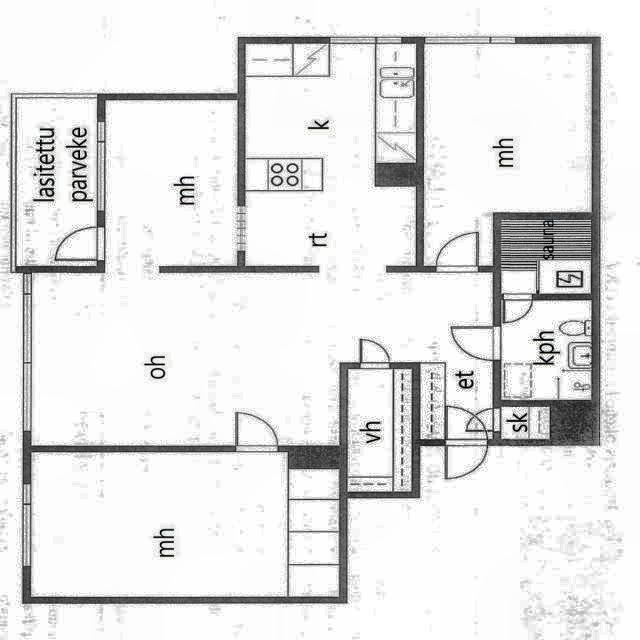room: (32, 453, 339, 596), (246, 44, 416, 266), (425, 44, 592, 265), (501, 299, 591, 400), (348, 369, 411, 492), (501, 219, 591, 294), (501, 407, 550, 440)
